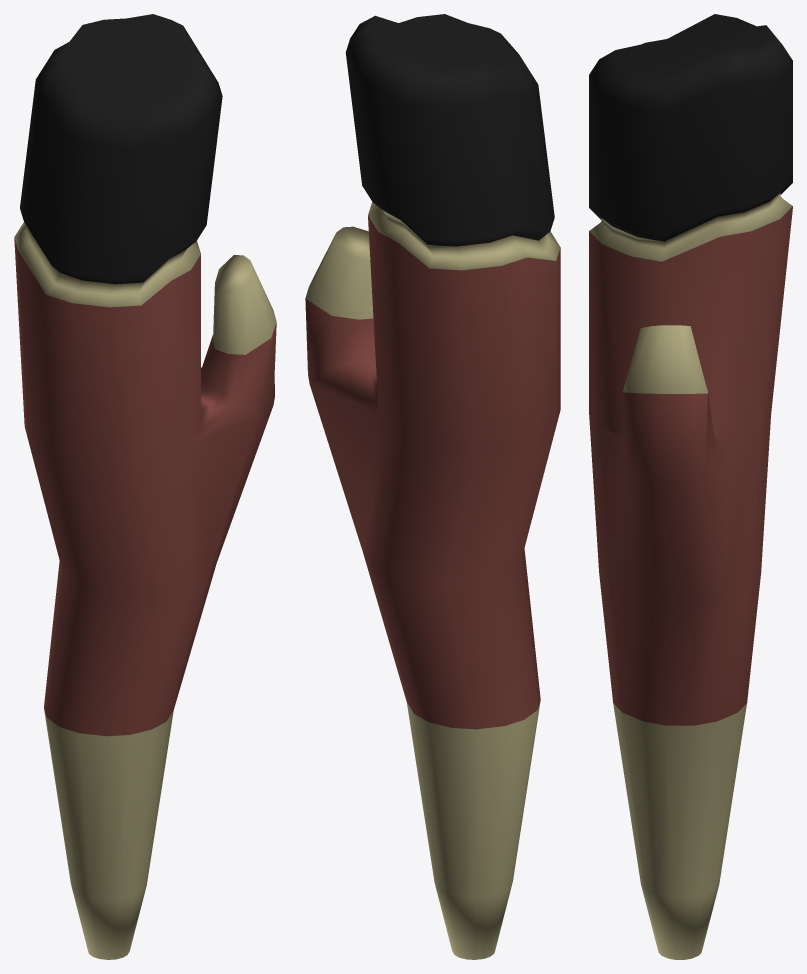
The model's file is Torch.fbx.
The picture shows the model from 3 angles, left to right: view 1: azimuth 30°, elevation 25°; view 2: azimuth 150°, elevation 25°; view 3: azimuth 270°, elevation 25°; orthographic projection. The views are drawn at different scales.
Visible parts, largest first — view 1: pCube1; view 2: pCube1; view 3: pCube1.
Boxes of the visible parts, box(x1,y1,x2,y2) form: pCube1: box(14, 14, 276, 959); pCube1: box(305, 14, 560, 959); pCube1: box(589, 14, 792, 959).
Bounding box in the file's own units: 1.14 × 4.28 × 0.8395.
